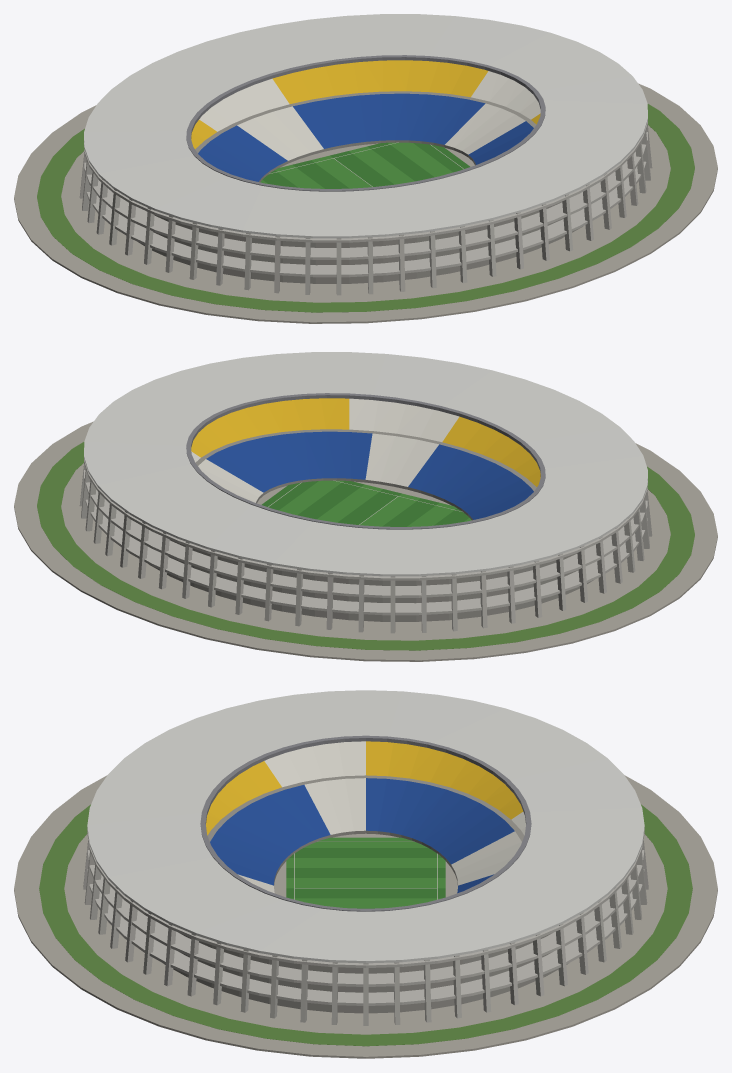
The model's file is maracana.glb.
3 views of the same model, one above another, from view 1: azimuth 30°, elevation 25°; view 2: azimuth 150°, elevation 25°; view 3: azimuth 270°, elevation 25° (orthographic). The views are drawn at different scales.
Parts seen in each view (by area): view 1: maracana; view 2: maracana; view 3: maracana.
Boxes of the visible parts, box(x1,y1,x2,y2) form: maracana: box(14, 14, 717, 323); maracana: box(14, 352, 717, 661); maracana: box(14, 690, 717, 1058).
Size of the model in its own units: 380 by 35.4 by 336.
